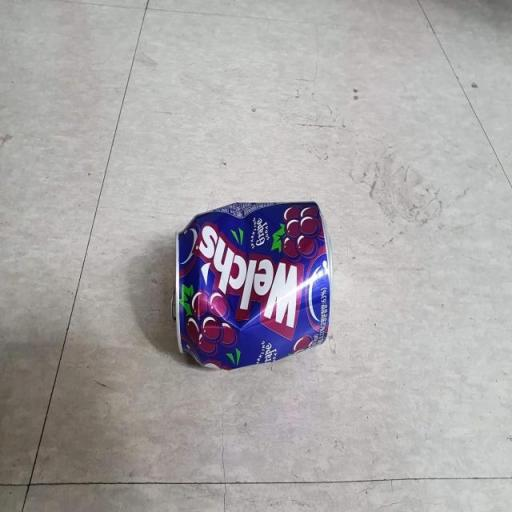metal: (154, 170, 376, 408)
